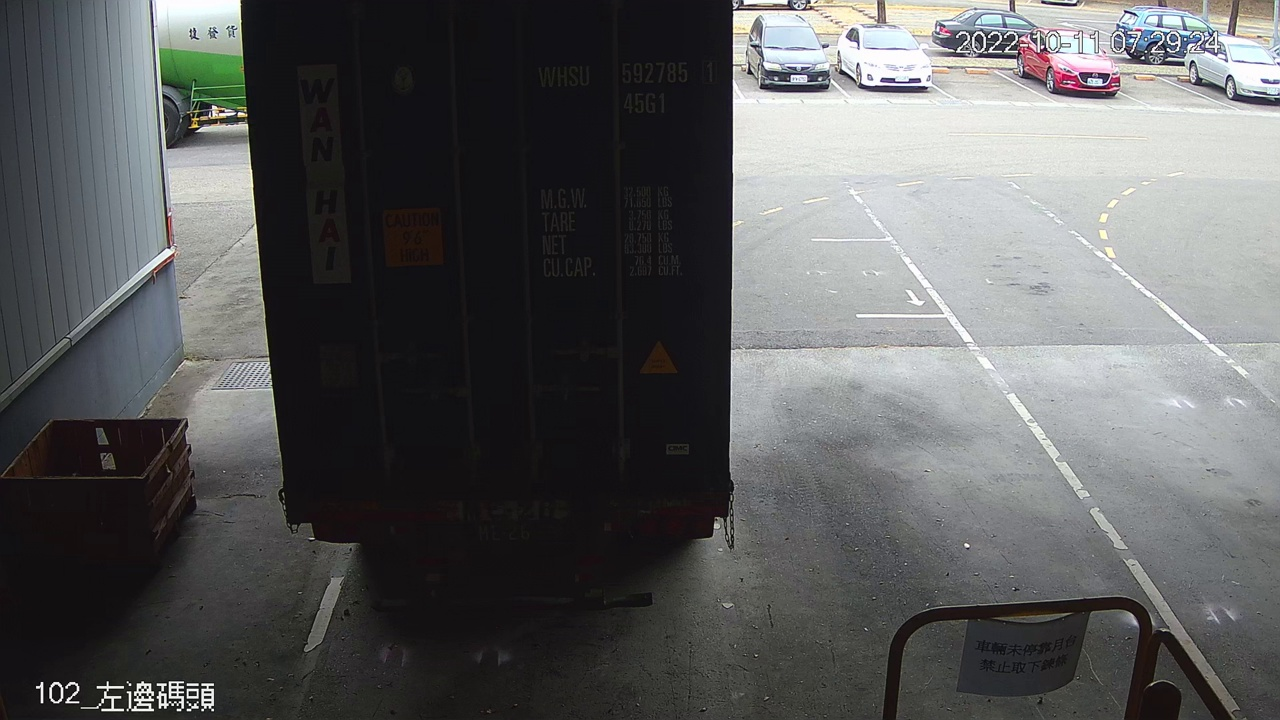container: (530, 53, 721, 123)
